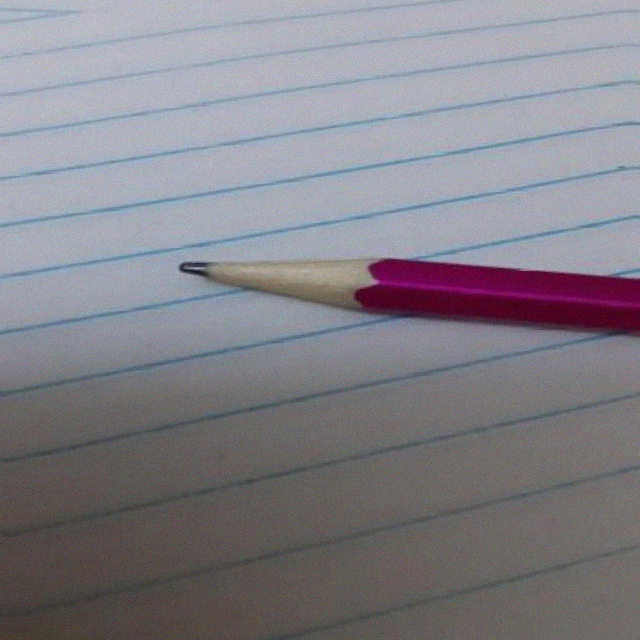pencil: (179, 239, 397, 309)
